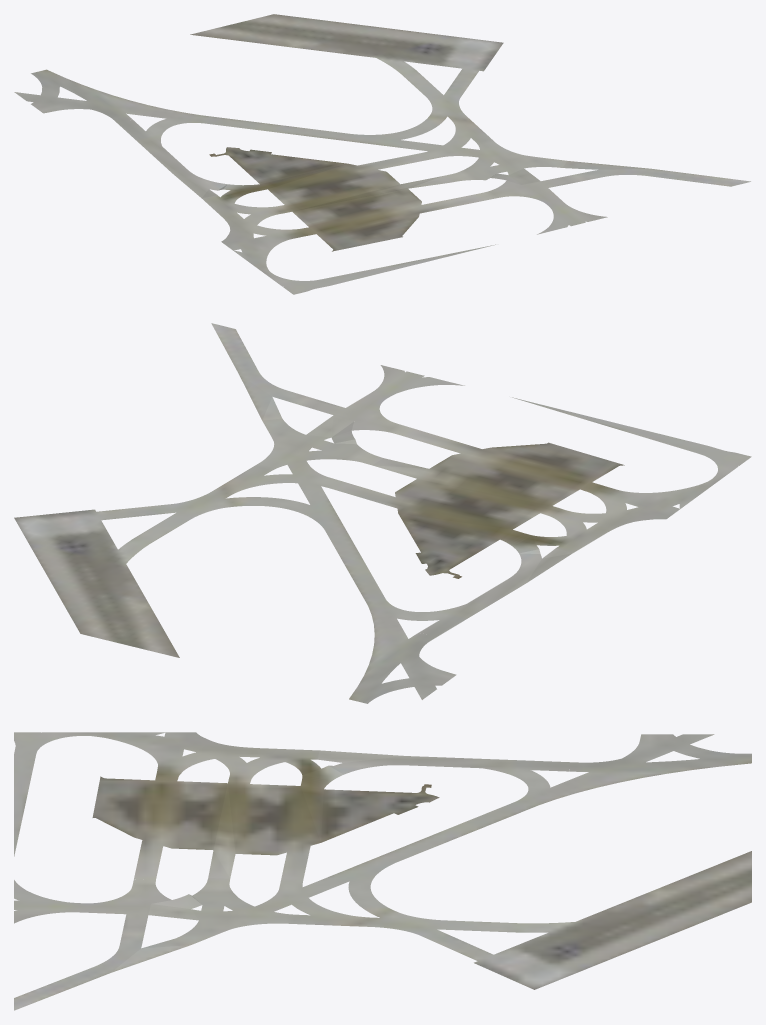
File: LSZH_2_0.glb
3 renders of one model, top to bottom at view 1: azimuth 30°, elevation 25°; view 2: azimuth 150°, elevation 25°; view 3: azimuth 270°, elevation 25°, orthographic. The views are drawn at different scales.
Visible parts, largest first — view 1: pavement_LSZH_pavement_5369_2514; view 2: pavement_LSZH_pavement_5369_2514; view 3: pavement_LSZH_pavement_5369_2514.
Boxes of the visible parts, x1,y1,x2,y2 form: pavement_LSZH_pavement_5369_2514: [14, 14, 750, 294]; pavement_LSZH_pavement_5369_2514: [14, 323, 751, 703]; pavement_LSZH_pavement_5369_2514: [14, 732, 751, 1010].
Bounding box in the file's own units: 450 × 3.01 × 500.
Materials: 1 (1 with a texture image).
